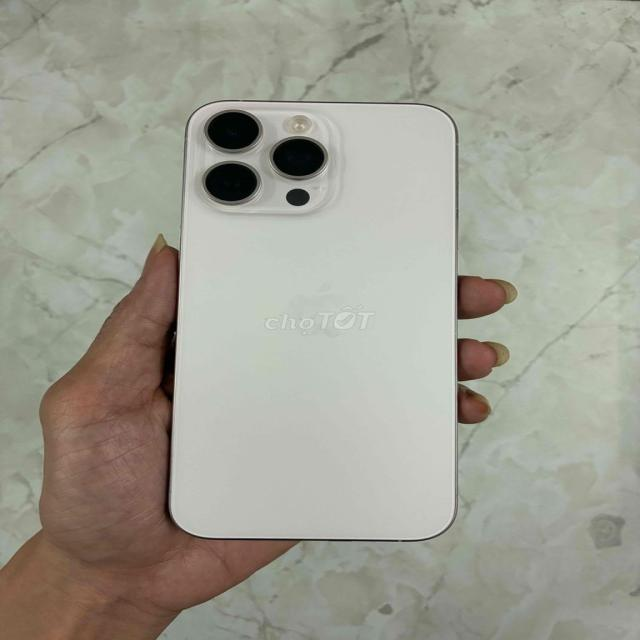gen_16: (169, 101, 458, 541)
